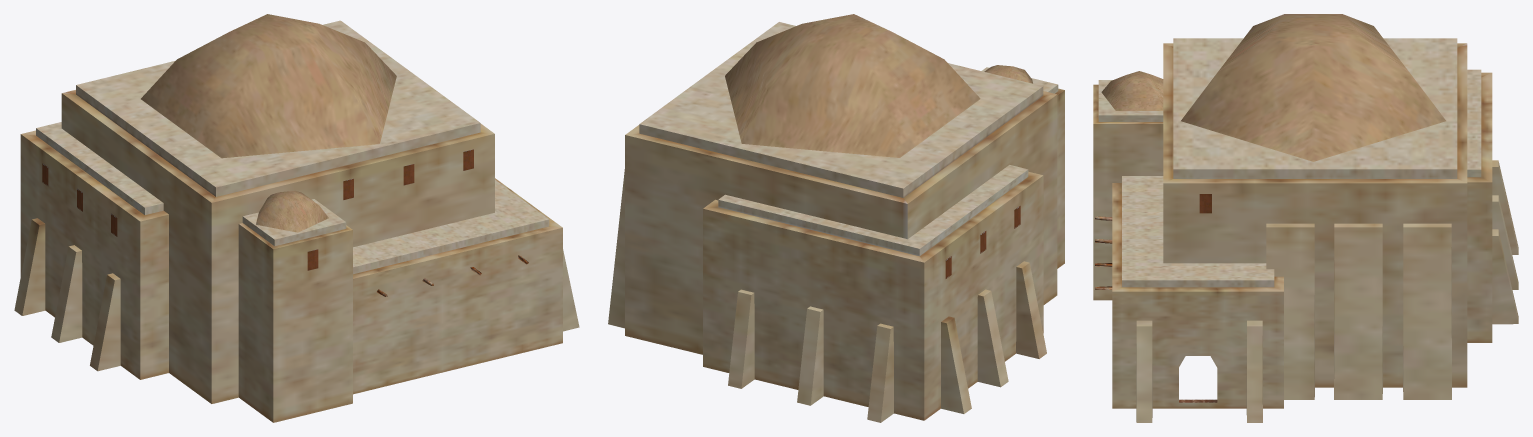
File: thm_tato_imprv_building_s01_r0_mesh_l2.fbx
3 renders of one model, left to right at view 1: azimuth 30°, elevation 25°; view 2: azimuth 150°, elevation 25°; view 3: azimuth 270°, elevation 25°, orthographic.
Visible parts, largest first — view 1: mesh_node; view 2: mesh_node; view 3: mesh_node.
Part boxes in pixels (box(x1,y1,x2,y2)): mesh_node: box(14, 14, 579, 422); mesh_node: box(608, 14, 1064, 422); mesh_node: box(1093, 14, 1518, 422).
Bounding box in the file's own units: 26.2 × 17.79 × 23.43.
